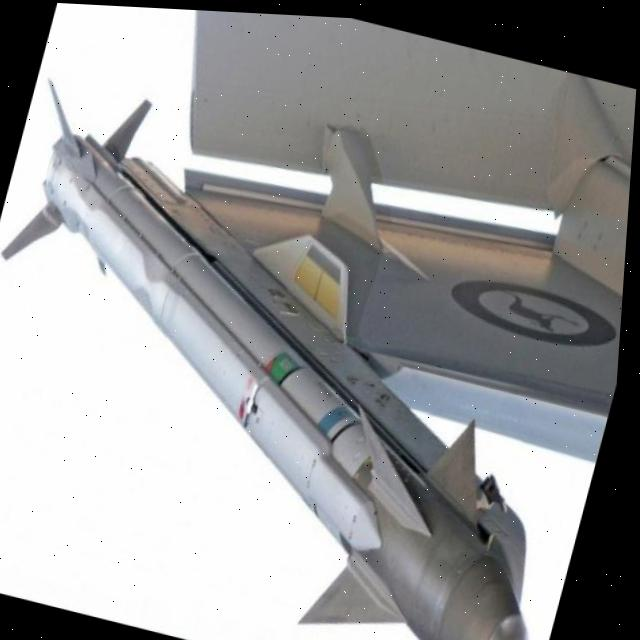missile: (0, 73, 636, 640)
